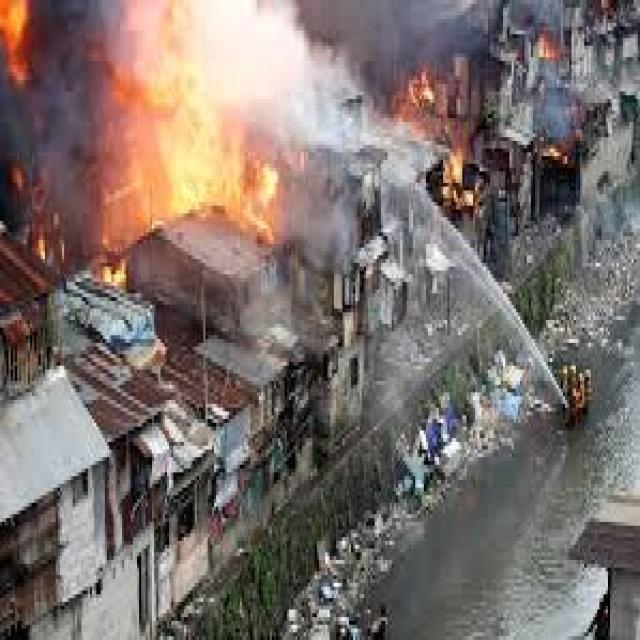Fire: (105, 0, 285, 255), (392, 50, 474, 211), (0, 0, 32, 91)
